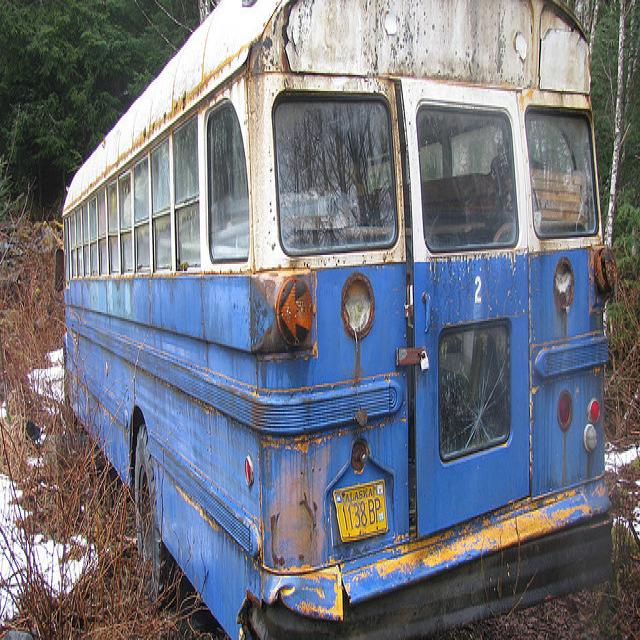Vehicle: (53, 0, 617, 631)
